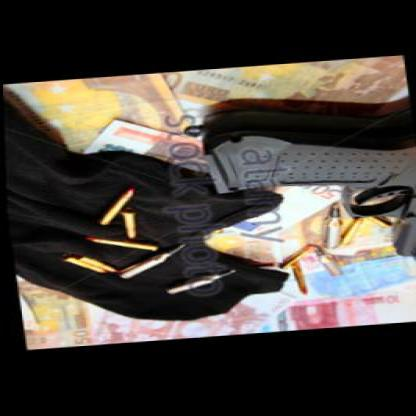pistol: (191, 88, 411, 279)
